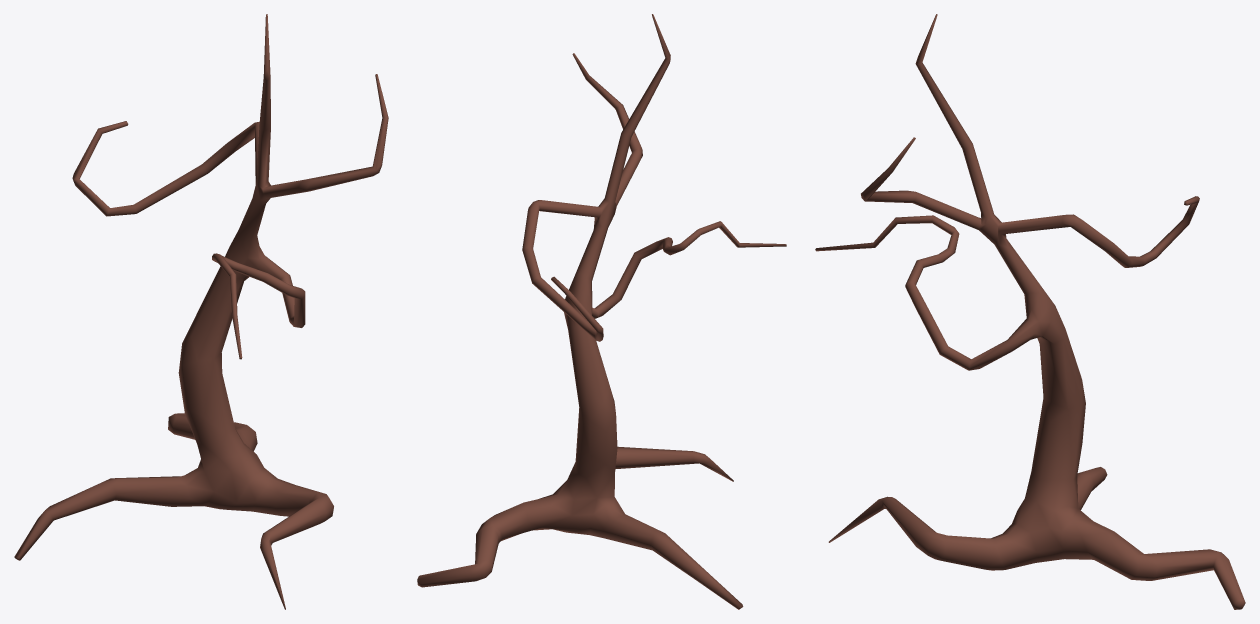
Rendered from NewTree1.fbx.
The picture shows the model from 3 angles, left to right: view 1: azimuth 30°, elevation 25°; view 2: azimuth 150°, elevation 25°; view 3: azimuth 270°, elevation 25°; orthographic projection. The views are drawn at different scales.
Parts seen in each view (by area): view 1: SwampTree1; view 2: SwampTree1; view 3: SwampTree1.
Part boxes in pixels (x1,y1,x2,y2): SwampTree1: [14, 14, 388, 609]; SwampTree1: [417, 14, 786, 609]; SwampTree1: [815, 14, 1245, 609].
Bounding box in the file's own units: 0.8415 × 1.11 × 1.58.
